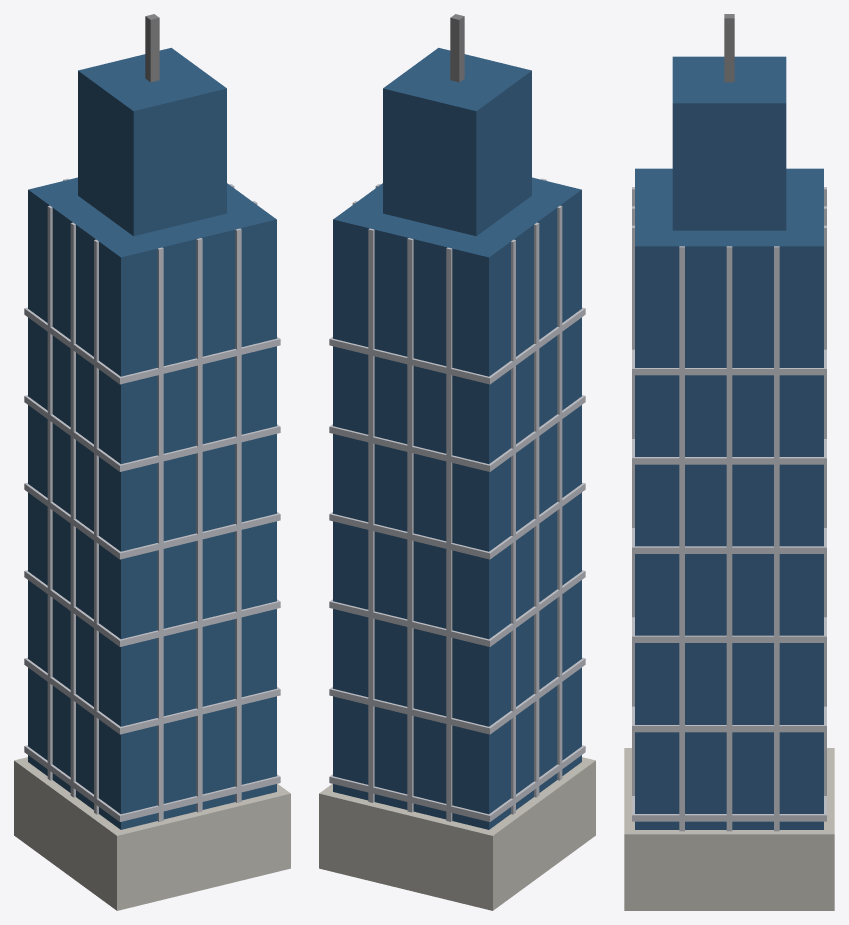
File: tower_2.glb
3 renders of one model, left to right at view 1: azimuth 30°, elevation 25°; view 2: azimuth 150°, elevation 25°; view 3: azimuth 270°, elevation 25°, orthographic.
Parts seen in each view (by area): view 1: tower_2; view 2: tower_2; view 3: tower_2.
Part boxes in pixels (x1=…): tower_2: x1=14, y1=14, x2=290, y2=910; tower_2: x1=319, y1=14, x2=595, y2=910; tower_2: x1=624, y1=14, x2=834, y2=910.
Size of the model in its own units: 2.91 by 13.36 by 2.99.
